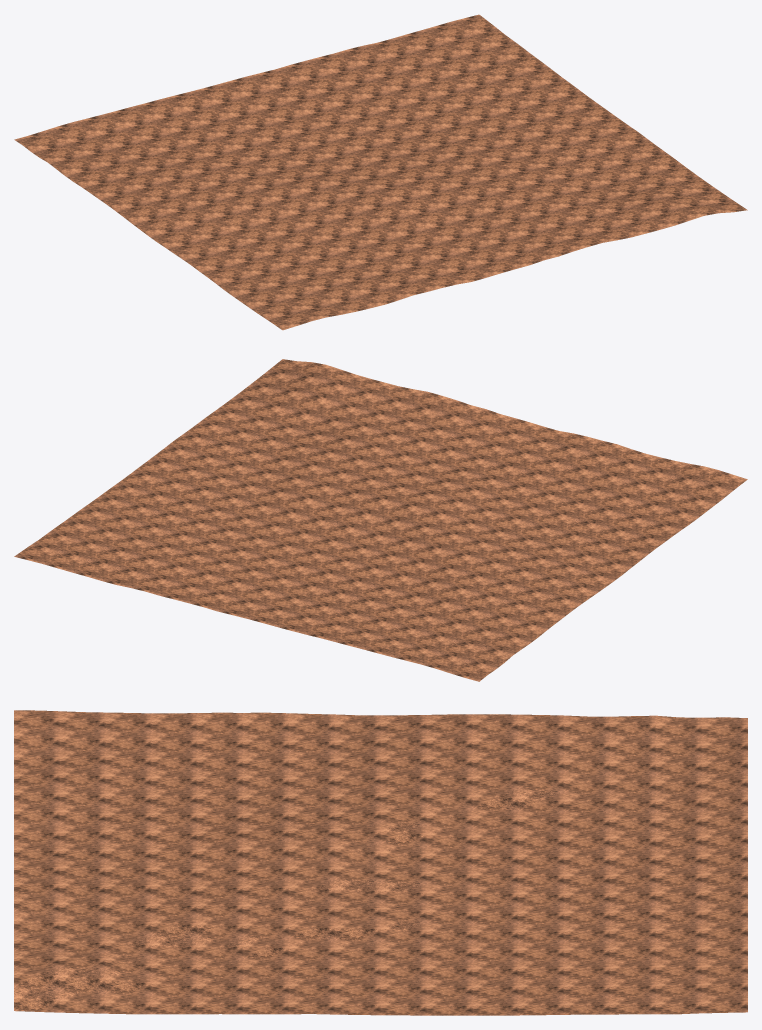
File: terrain_01_09.dae
3 views of the same model, one above another, from view 1: azimuth 30°, elevation 25°; view 2: azimuth 150°, elevation 25°; view 3: azimuth 270°, elevation 25° (orthographic). The views are drawn at different scales.
Visible parts, largest first — view 1: terrain_01_09-node; view 2: terrain_01_09-node; view 3: terrain_01_09-node.
Part boxes in pixels (x1,y1,x2,y2): terrain_01_09-node: (14, 14, 747, 330); terrain_01_09-node: (14, 359, 747, 681); terrain_01_09-node: (14, 710, 747, 1015).
Bounding box in the file's own units: 128 × 128 × 4.62.
1 material, 1 textured.
